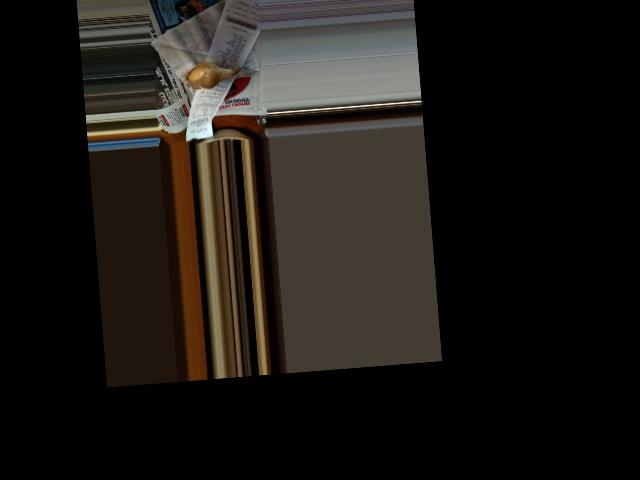onion: (187, 57, 233, 90)
